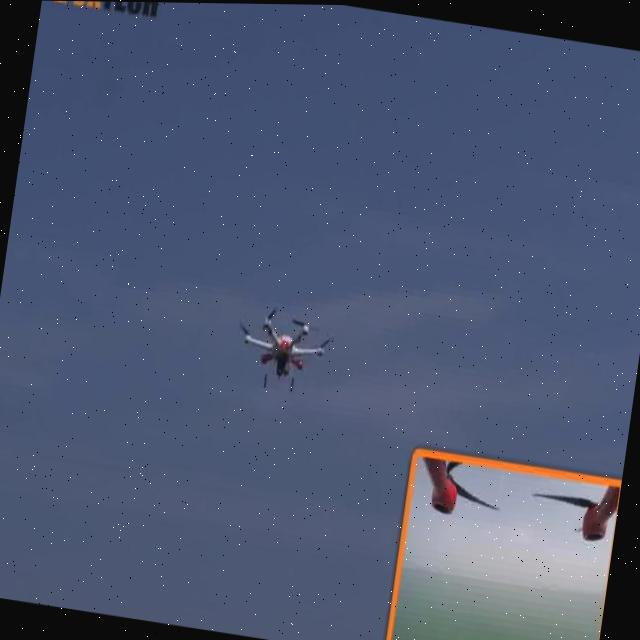drone: (222, 297, 342, 404)
